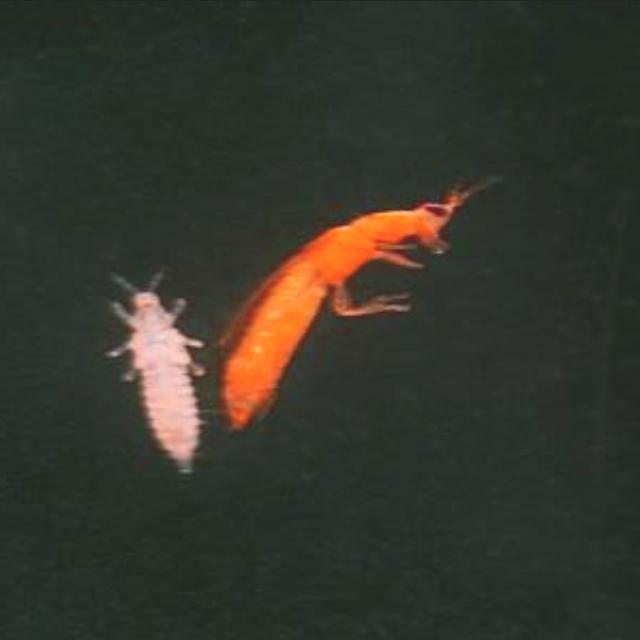melon thrips: (207, 150, 505, 462), (58, 264, 208, 494)
